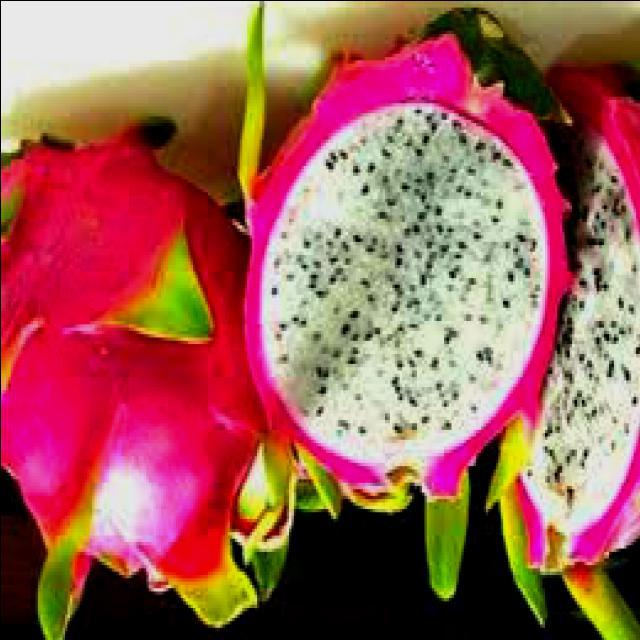trang: (244, 24, 566, 501), (2, 126, 296, 640), (483, 81, 639, 639)
